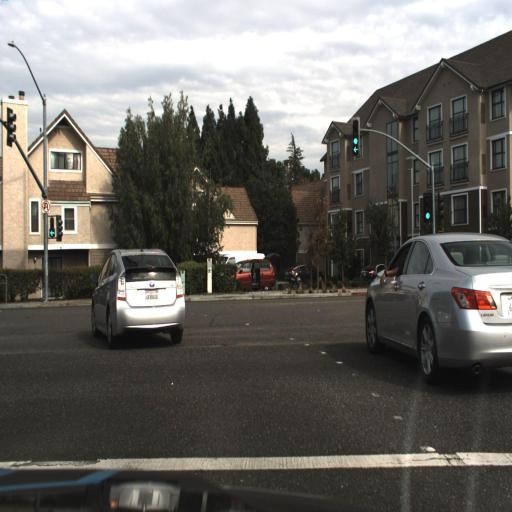car: (363, 233, 511, 394), (86, 233, 193, 360), (90, 242, 185, 352), (230, 250, 278, 293), (227, 256, 276, 292), (285, 261, 327, 288)
trafficLight: (350, 117, 362, 157), (421, 191, 433, 227), (47, 215, 61, 242)
trafficLight-GreenLeft: (47, 214, 58, 241)
